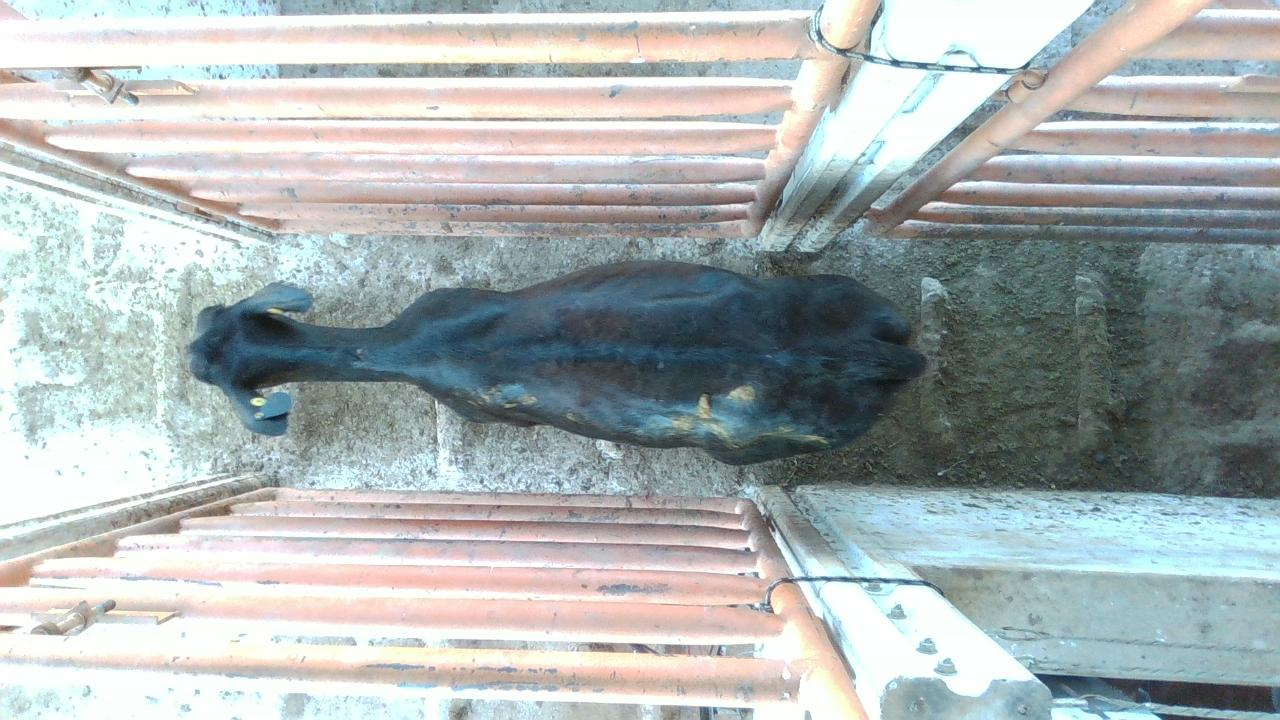cattle: (186, 257, 926, 465)
